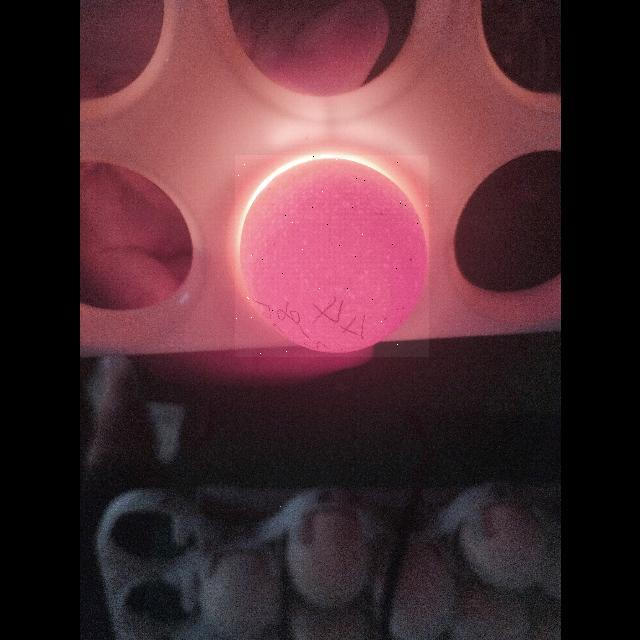Infertile: (235, 155, 429, 357)
